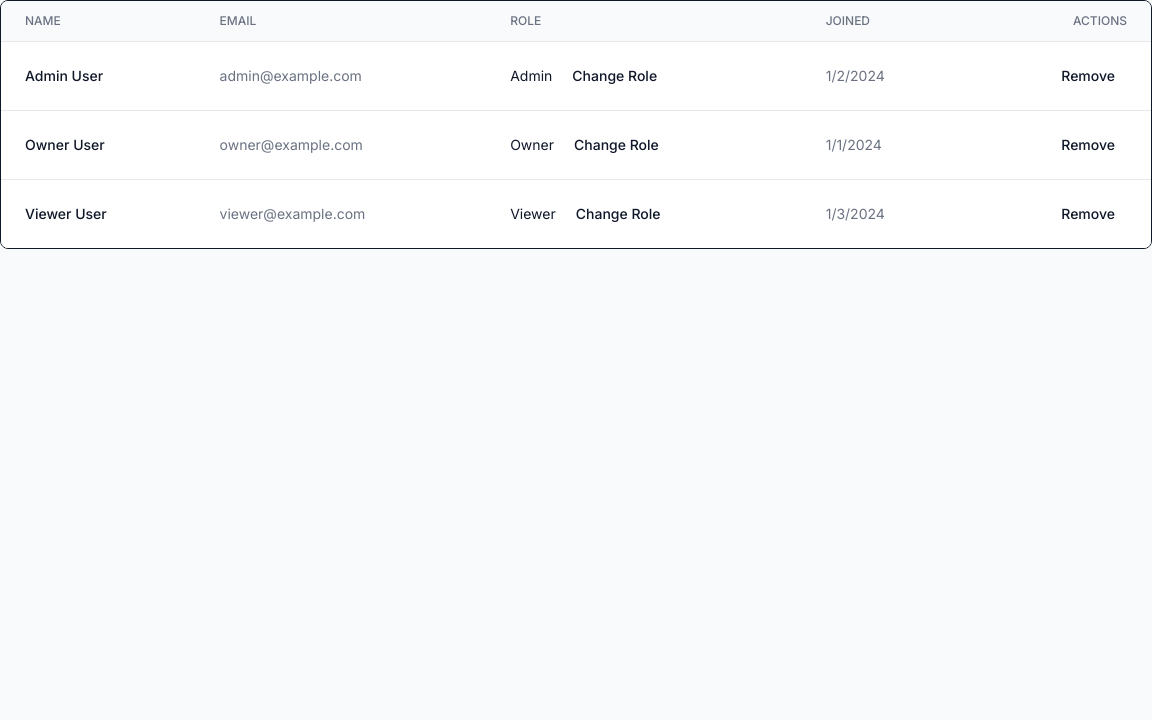
Test: User Story 4: Manage Member Roles › Acceptance Scenario 1: Role change dialog › should close dialog on cancel
The image size is (1152, 720).
Expected: the text "Admin User" is shown, [1, 42, 196, 110]
Click the button "Change Role" in the row of "Admin User" at (615, 76), box [560, 58, 669, 94]
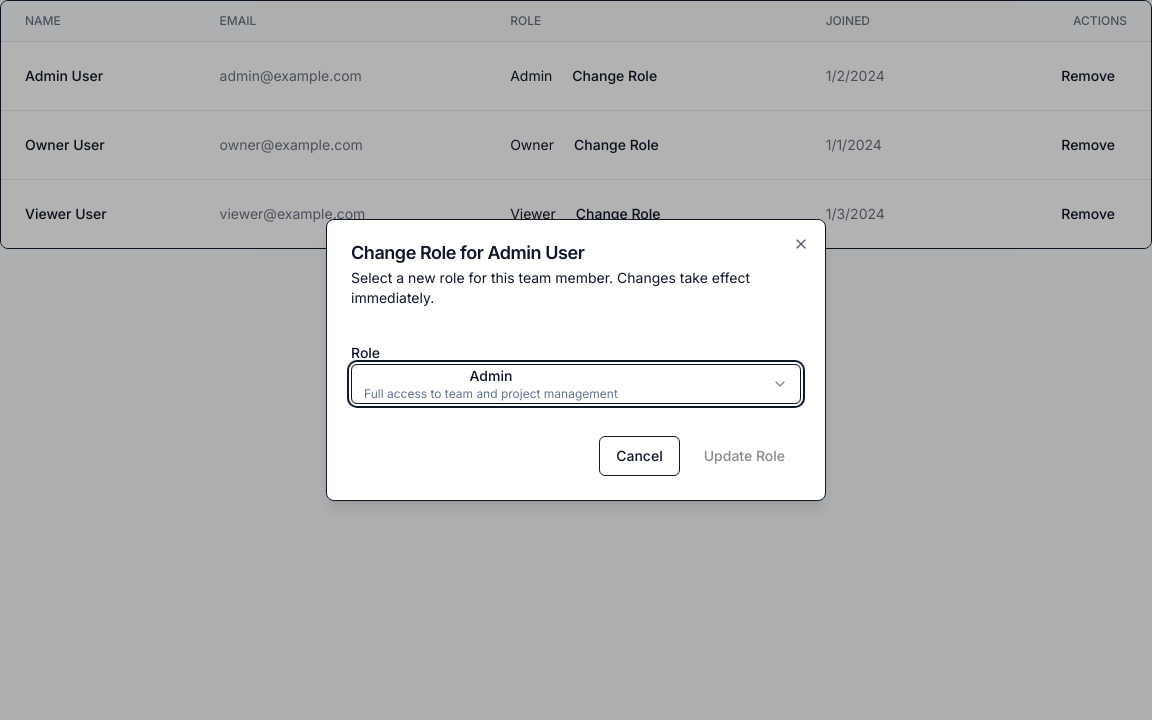
Now the dialog is shown, box [326, 219, 826, 501]
Click the button "Cancel" at (639, 456), box [599, 436, 680, 476]
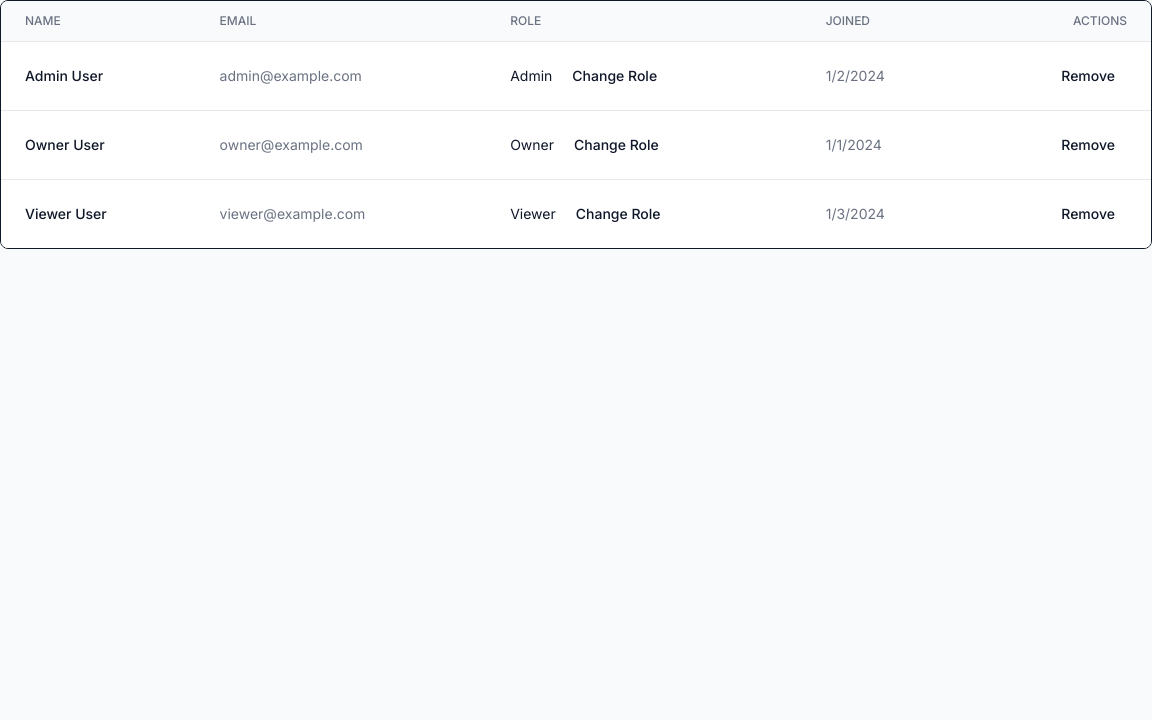
Now the dialog is gone
